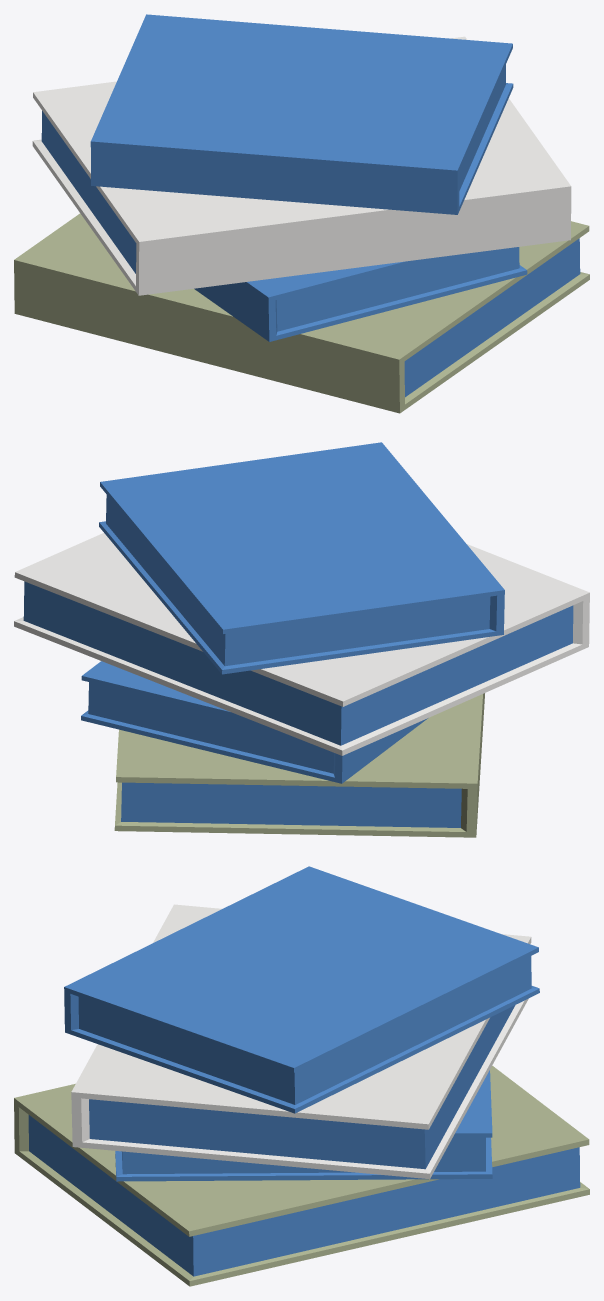
The model's file is Childroom2_Books2.fbx.
The picture shows the model from 3 angles, top to bottom: view 1: azimuth 30°, elevation 25°; view 2: azimuth 150°, elevation 25°; view 3: azimuth 270°, elevation 25°; orthographic projection.
Visible parts, largest first — view 1: Childroom2_Books2; view 2: Childroom2_Books2; view 3: Childroom2_Books2.
Boxes of the visible parts, <box> form: Childroom2_Books2: <box>14,14,589,413</box>; Childroom2_Books2: <box>14,442,589,837</box>; Childroom2_Books2: <box>14,866,589,1286</box>.
Size of the model in its own units: 43.03 by 18.34 by 45.81.
